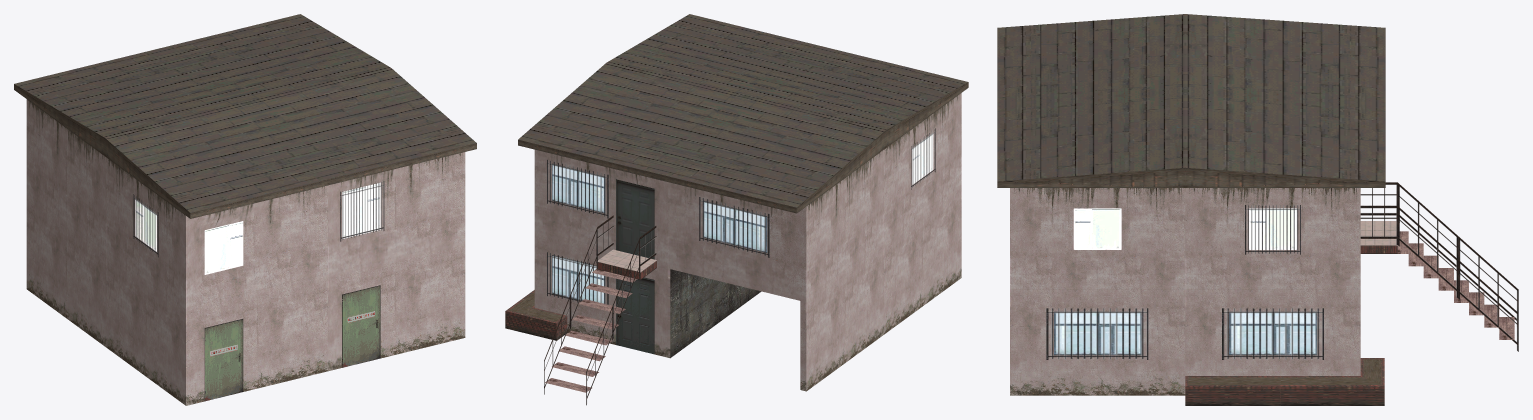
File: psxprop_-_ps1psx_house.glb
The picture shows the model from 3 angles, left to right: view 1: azimuth 30°, elevation 25°; view 2: azimuth 150°, elevation 25°; view 3: azimuth 270°, elevation 25°; orthographic projection. The views are drawn at different scales.
Parts seen in each view (by area): view 1: lowPHouse01, houseRoof, grillWindows_004, grillWindows_005; view 2: lowPHouse01, houseRoof, houseStairs, Cube_002, grillWindows_006, grillWindows, lowPHouse01_001, grillWindows_007, houseStairs_001, houseStairs_002, grillWindows_005; view 3: lowPHouse01, houseRoof, Cube_002, houseStairs, grillWindows_003, grillWindows_002, houseStairs_002, houseStairs_001, grillWindows_001, lowPHouse01_001.
Part boxes in pixels (x1=…): lowPHouse01: x1=26, y1=99, x2=465, y2=405; houseRoof: x1=14, y1=14, x2=476, y2=218; grillWindows_004: x1=340, y1=181, x2=384, y2=241; grillWindows_005: x1=133, y1=194, x2=158, y2=257; lowPHouse01: x1=534, y1=93, x2=961, y2=391; houseRoof: x1=518, y1=14, x2=968, y2=213; houseStairs: x1=545, y1=269, x2=637, y2=392; Cube_002: x1=505, y1=290, x2=567, y2=340; grillWindows_006: x1=699, y1=197, x2=769, y2=257; grillWindows: x1=547, y1=160, x2=608, y2=218; lowPHouse01_001: x1=596, y1=249, x2=656, y2=279; grillWindows_007: x1=547, y1=252, x2=608, y2=304; houseStairs_001: x1=586, y1=226, x2=656, y2=405; houseStairs_002: x1=544, y1=215, x2=613, y2=394; grillWindows_005: x1=911, y1=128, x2=935, y2=189; lowPHouse01: x1=1010, y1=188, x2=1360, y2=395; houseRoof: x1=997, y1=14, x2=1385, y2=187; Cube_002: x1=1185, y1=358, x2=1384, y2=405; houseStairs: x1=1397, y1=231, x2=1514, y2=339; grillWindows_003: x1=1046, y1=308, x2=1148, y2=359; grillWindows_002: x1=1222, y1=308, x2=1323, y2=359; houseStairs_002: x1=1360, y1=205, x2=1518, y2=351; houseStairs_001: x1=1360, y1=182, x2=1518, y2=320; grillWindows_001: x1=1245, y1=205, x2=1300, y2=254; lowPHouse01_001: x1=1360, y1=221, x2=1397, y2=253.
Size of the model in its own units: 8.72 by 5.84 by 11.93.
Materials: 2 (2 with a texture image).
